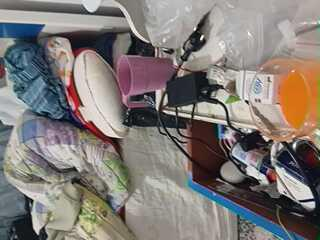cup: (248, 58, 319, 140), (250, 62, 309, 128), (117, 55, 174, 107), (117, 57, 131, 94)
